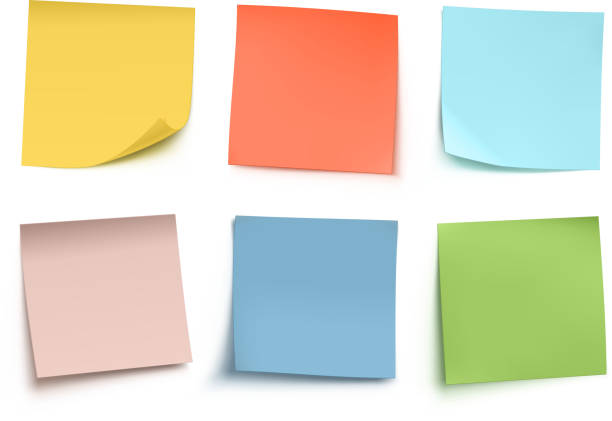blue_sticky_note: (231, 214, 399, 381), (441, 5, 604, 170)
green_sticky_note: (435, 215, 607, 387)
pink_sticky_note: (228, 4, 400, 175), (17, 214, 194, 378)
yellow_sticky_note: (20, 1, 195, 167)
